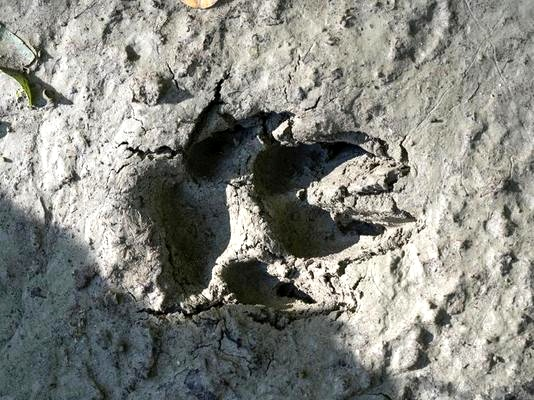coyote: (90, 83, 426, 341)
